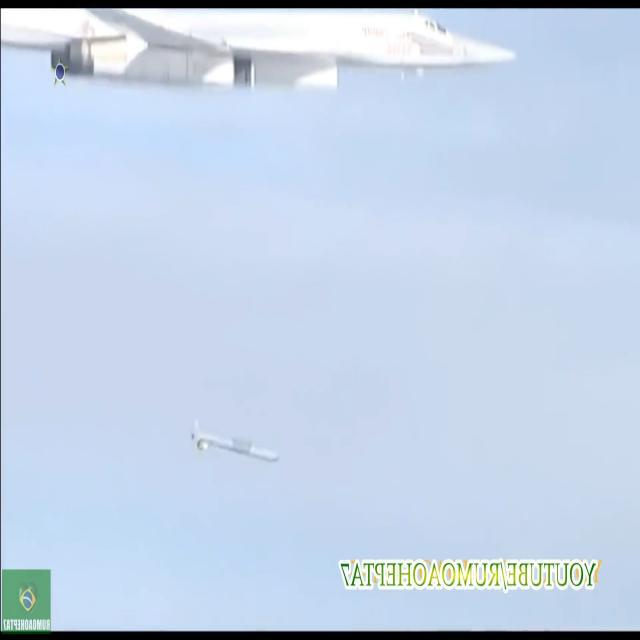missile: (184, 412, 284, 470)
